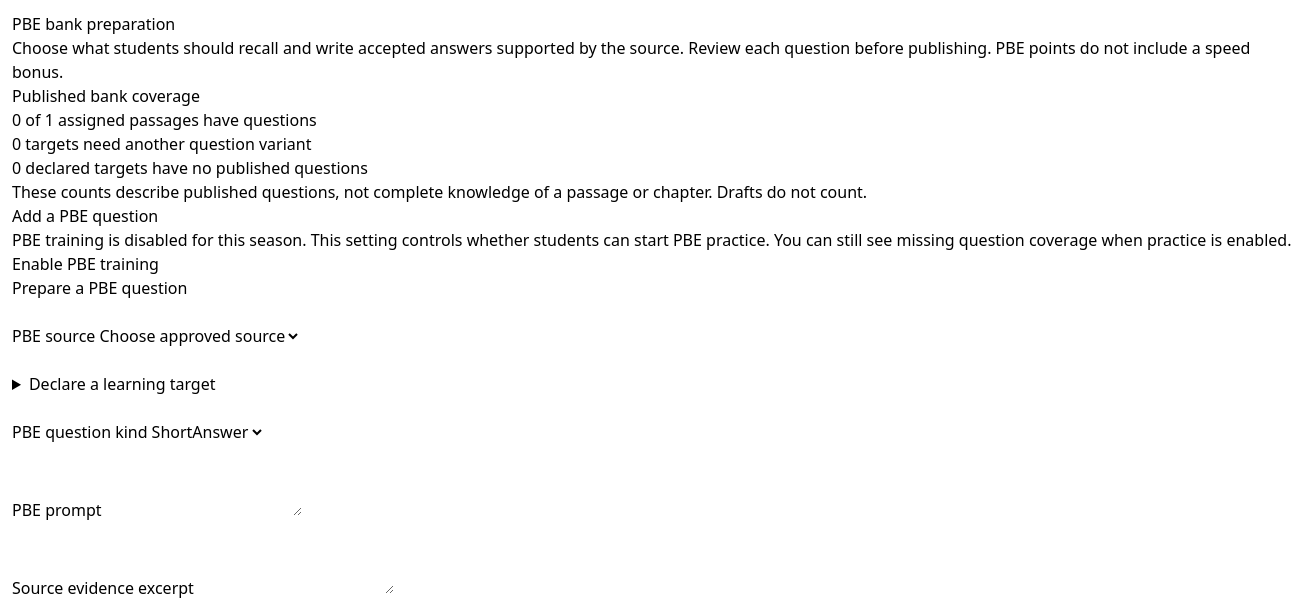
Test case: previews multiple sources in the selected citation order
Select "GEN 1:2" in the dropdown labelled "PBE source" at (198, 336), box [95, 324, 301, 348]
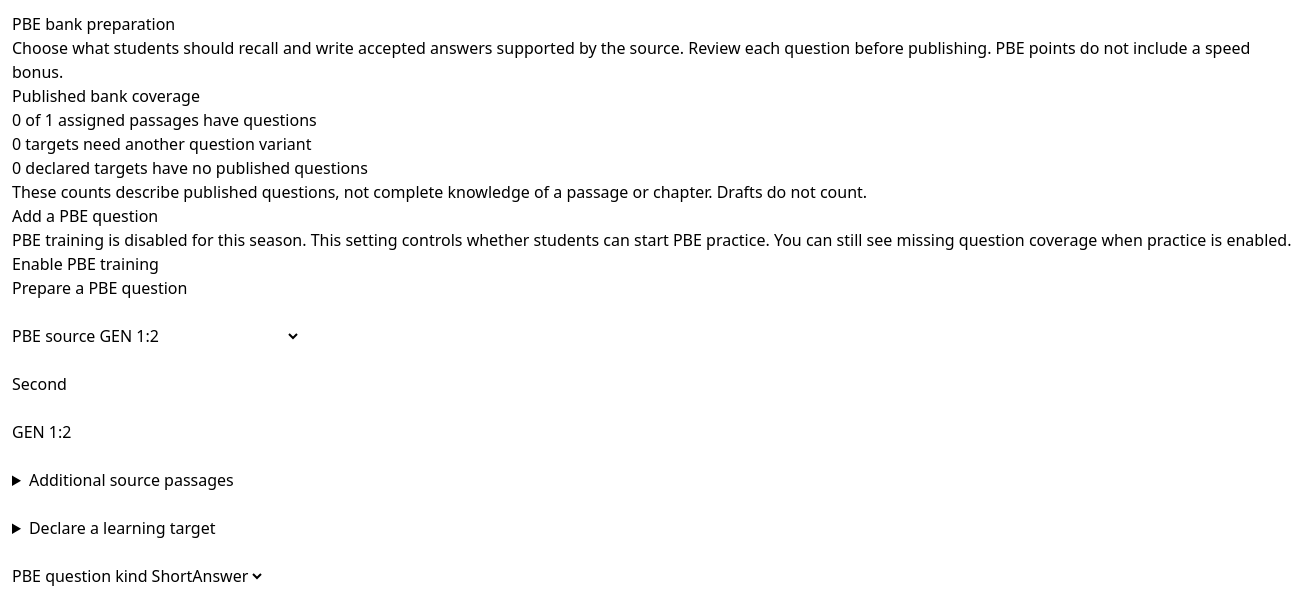
Click the heading "Additional source passages".
click(131, 480)  # box [29, 469, 234, 491]
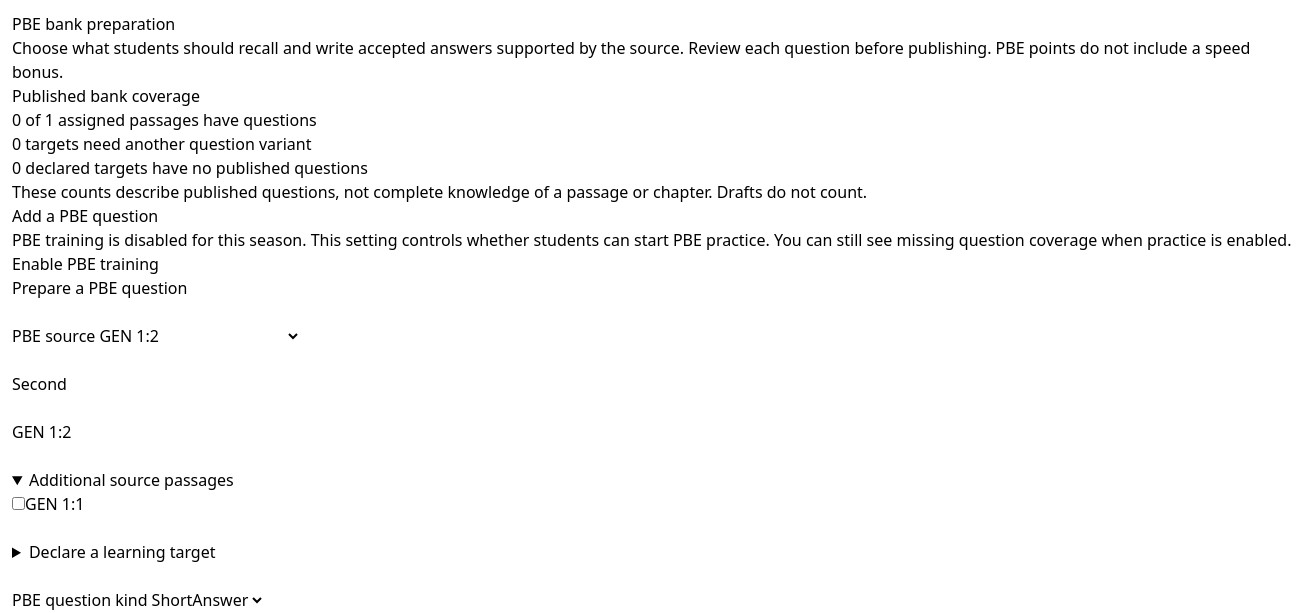
Click the checkbox labelled "GEN 1:1".
click(18, 504)  # box [12, 497, 25, 510]
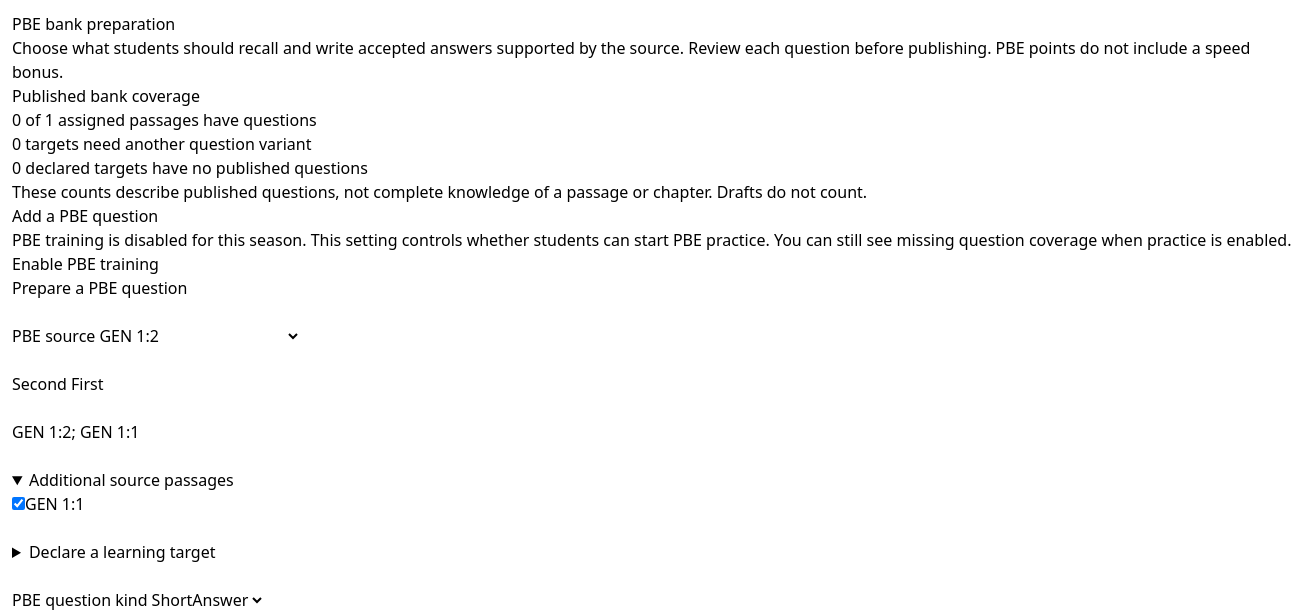
Now the text "Second First" is shown, box [12, 373, 104, 395]
